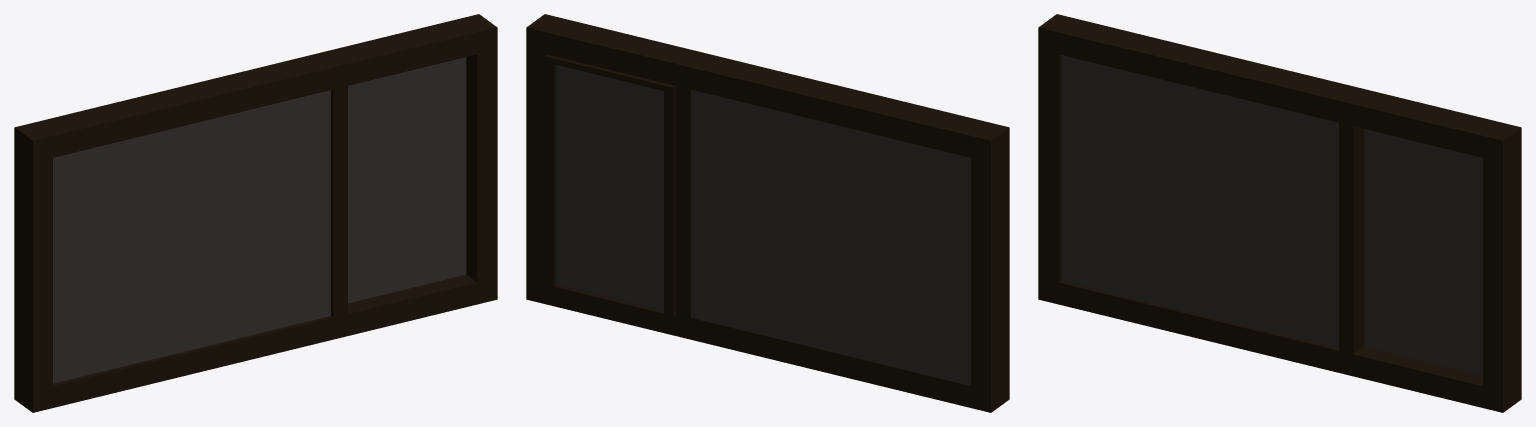
Rendered from Glass Window .fbx.
3 views of the same model, side by side, from view 1: azimuth 30°, elevation 25°; view 2: azimuth 150°, elevation 25°; view 3: azimuth 330°, elevation 25° (orthographic).
Parts seen in each view (by area): view 1: Cube; view 2: Cube; view 3: Cube.
Boxes of the visible parts, left/top/right/bottom form: Cube: left=14, top=14, right=497, bottom=412; Cube: left=526, top=14, right=1009, bottom=412; Cube: left=1038, top=14, right=1521, bottom=412.
Bounding box in the file's own units: 200 × 112 × 15.63.
